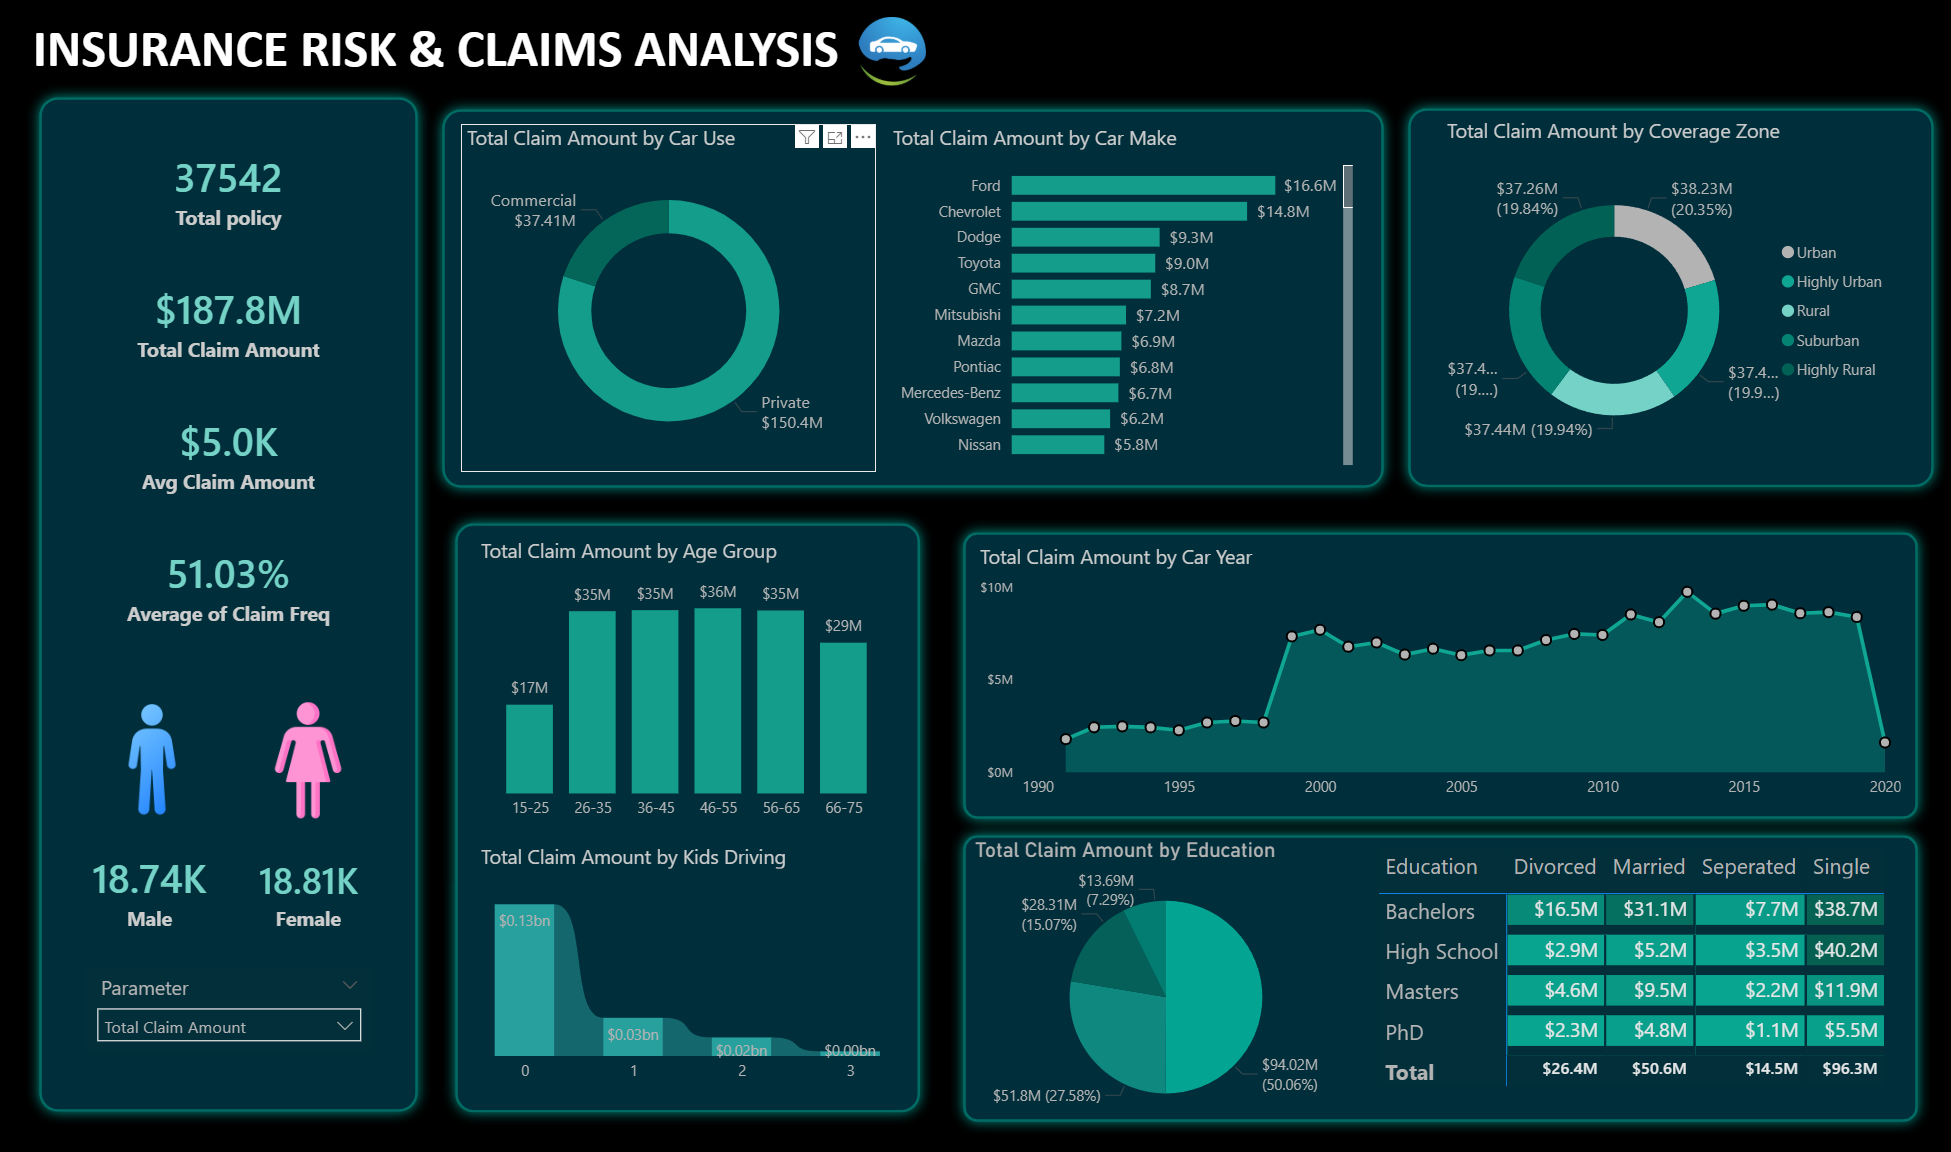

The dashboard page shown, as its layout file describes it:
{"tool":"powerbi","page":{"name":"Page 1","canvas":[1600,950],"ordinal":0},"visuals":[{"type":"textbox","box":[22.9,9.8,680.6,71.2],"z":0},{"type":"shape","box":[22.9,71.2,329.7,849.9],"z":1000},{"type":"cardVisual","fields":{"Data":["insurance_data_car.Total policy","insurance_data_car.Total Claim Amount","insurance_data_car.Avg Claim Amount","Avg(insurance_data_car.Claim Freq)"]},"box":[53.2,90,269.9,459.7],"z":2000},{"type":"cardVisual","fields":{"Data":["insurance_data_car.Male Count","insurance_data_car.Female Count"]},"box":[45,674.8,286.3,109.6],"z":3000},{"type":"image","box":[205.3,566.1,94.9,115.3],"z":4000},{"type":"image","box":[77.7,565.2,94.9,115.3],"z":5000},{"type":"slicer","fields":{"Values":["Parameter.Parameter"]},"box":[70.3,793.5,235.6,70.3],"z":6000},{"type":"shape","box":[352.6,81,790.2,329.7],"z":7000},{"type":"donutChart","fields":{"Y":["insurance_data_car.Total Claim Amount"],"Category":["insurance_data_car.Car Use"]},"box":[377.9,103.4,339.8,284.4],"z":8000},{"type":"clusteredBarChart","fields":{"Y":["insurance_data_car.Total Claim Amount"],"Category":["insurance_data_car.Car Make"]},"box":[726,103.4,386.1,284.4],"z":9000},{"type":"shape","box":[1142.7,80.2,449.8,329.9],"z":10000},{"type":"donutChart","fields":{"Y":["insurance_data_car.Total Claim Amount"],"Category":["insurance_data_car.Coverage Zone"]},"box":[1179.9,97,375.4,295.2],"z":11000},{"type":"shape","box":[363,419.2,400.2,501.9],"z":12000},{"type":"clusteredColumnChart","fields":{"Y":["insurance_data_car.Total Claim Amount"],"Category":["insurance_data_car.Age Group"]},"box":[389.5,440.7,347.3,239.8],"z":13000},{"type":"ribbonChart","fields":{"Y":["insurance_data_car.Total Claim Amount"],"Category":["insurance_data_car.Kids Driving"]},"box":[389.5,691.3,347.3,204.2],"z":14000},{"type":"shape","box":[778.7,427,800.8,254.4],"z":15000},{"type":"areaChart","fields":{"Y":["insurance_data_car.Total Claim Amount"],"Category":["insurance_data_car.Car Year"]},"box":[797.5,445.8,763.2,217.6],"z":16000},{"type":"shape","box":[778.7,674.8,800.8,254.4],"z":17000},{"type":"pieChart","fields":{"Y":["insurance_data_car.Total Claim Amount"],"Category":["insurance_data_car.Education"]},"box":[793.5,686.3,322.3,242.9],"z":18000},{"type":"pivotTable","fields":{"Rows":["insurance_data_car.Education"],"Columns":["insurance_data_car.Marital Status"],"Values":["insurance_data_car.Total Claim Amount"]},"box":[1123.9,691.2,436.8,222.5],"z":19000},{"type":"image","box":[682.2,15.5,96.5,55.6],"z":20000}]}

Visuals, with their boxes in screenshot pixels (x1, y1, x2, y2), scaled from the page's 1600x950 canvas onto the 1951x1152 screenshot:
textbox: locate(28, 12, 858, 98)
shape: locate(28, 86, 430, 1117)
cardVisual - insurance_data_car.Total policy x insurance_data_car.Total Claim Amount: locate(65, 109, 394, 667)
cardVisual - insurance_data_car.Male Count x insurance_data_car.Female Count: locate(55, 818, 404, 951)
image: locate(250, 686, 366, 826)
image: locate(95, 685, 210, 825)
slicer - Parameter.Parameter: locate(86, 962, 373, 1047)
shape: locate(430, 98, 1394, 498)
donutChart - insurance_data_car.Total Claim Amount x insurance_data_car.Car Use: locate(461, 125, 875, 470)
clusteredBarChart - insurance_data_car.Total Claim Amount x insurance_data_car.Car Make: locate(885, 125, 1356, 470)
shape: locate(1393, 97, 1942, 497)
donutChart - insurance_data_car.Total Claim Amount x insurance_data_car.Coverage Zone: locate(1439, 118, 1896, 476)
shape: locate(443, 508, 931, 1117)
clusteredColumnChart - insurance_data_car.Total Claim Amount x insurance_data_car.Age Group: locate(475, 534, 898, 825)
ribbonChart - insurance_data_car.Total Claim Amount x insurance_data_car.Kids Driving: locate(475, 838, 898, 1086)
shape: locate(950, 518, 1926, 826)
areaChart - insurance_data_car.Total Claim Amount x insurance_data_car.Car Year: locate(972, 541, 1903, 804)
shape: locate(950, 818, 1926, 1127)
pieChart - insurance_data_car.Total Claim Amount x insurance_data_car.Education: locate(968, 832, 1361, 1127)
pivotTable - insurance_data_car.Education x insurance_data_car.Marital Status: locate(1370, 838, 1903, 1108)
image: locate(832, 19, 950, 86)
